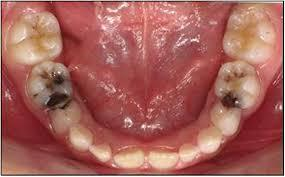Caries: (36, 65, 76, 107), (217, 60, 253, 87), (217, 90, 252, 115)
